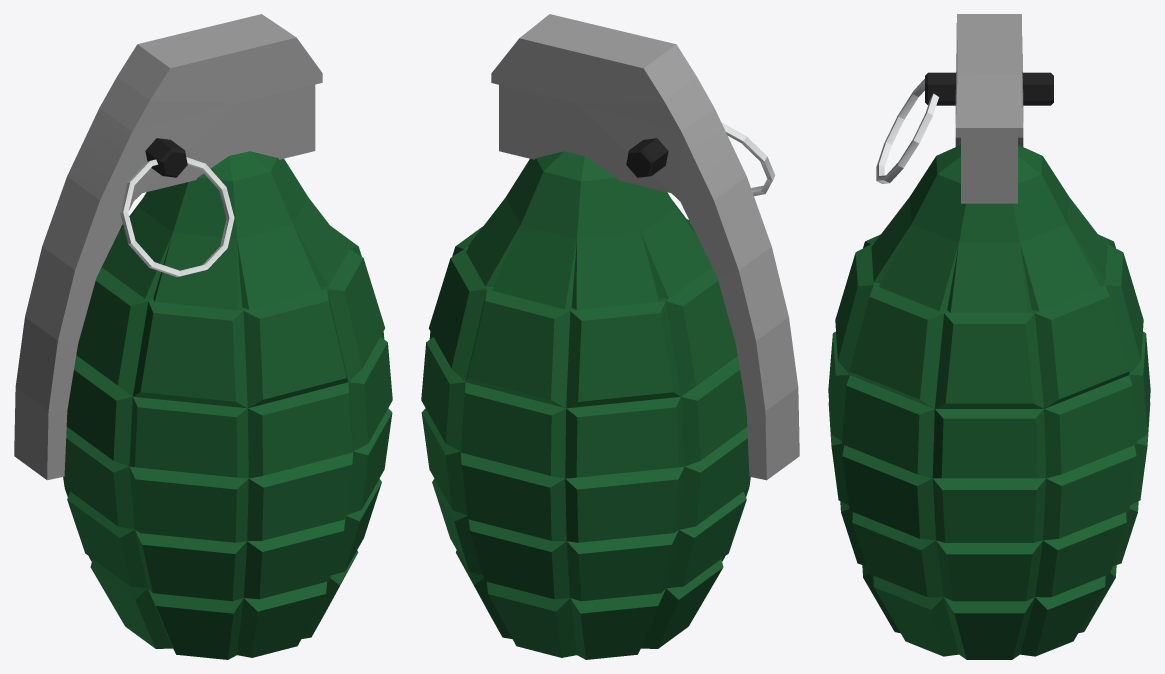
Rendered from luu dan.fbx.
3 views of the same model, side by side, from view 1: azimuth 30°, elevation 25°; view 2: azimuth 150°, elevation 25°; view 3: azimuth 270°, elevation 25° (orthographic).
Parts seen in each view (by area): view 1: grenade; view 2: grenade; view 3: grenade.
Boxes of the visible parts, x1,y1,x2,y2 form: grenade: (14, 14, 392, 659); grenade: (421, 14, 799, 659); grenade: (828, 14, 1150, 659).
Bounding box in the file's own units: 1.77 × 2.94 × 1.5.
Materials: 1 (1 with a texture image).
